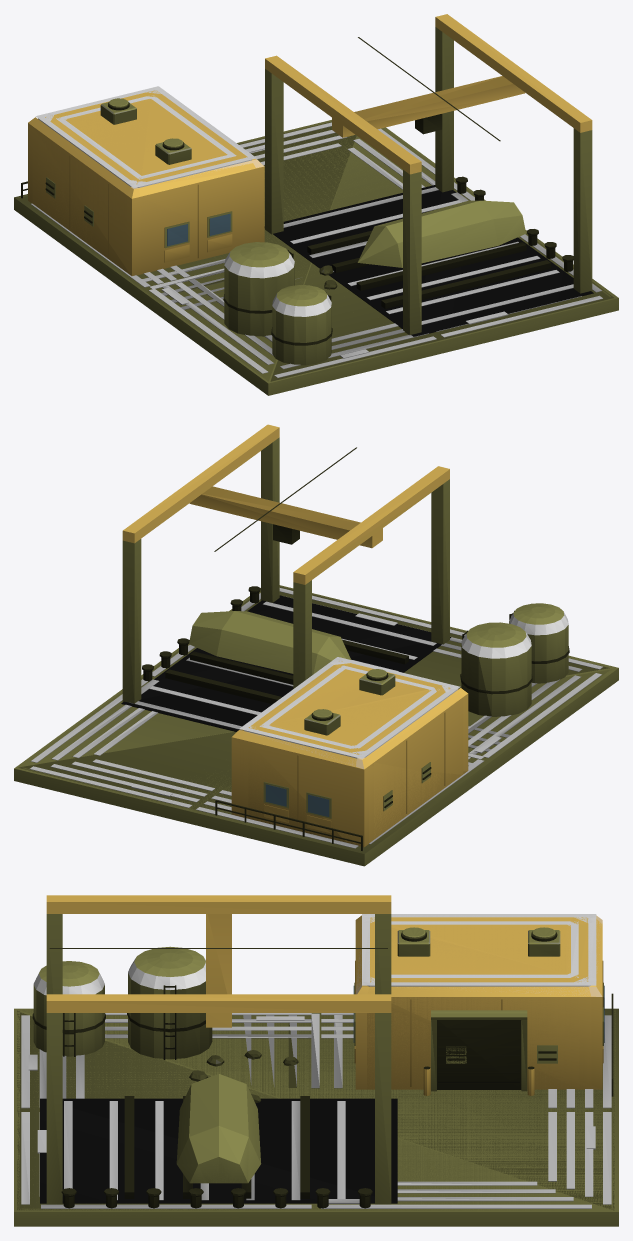
The model's file is meridian_shipyard_damaged.glb.
3 views of the same model, one above another, from view 1: azimuth 30°, elevation 25°; view 2: azimuth 150°, elevation 25°; view 3: azimuth 270°, elevation 25° (orthographic). The views are drawn at different scales.
Parts seen in each view (by area): view 1: body (×3); view 2: body (×3); view 3: body (×3).
Part boxes in pixels (x1,y1,x2,y2): body (×3): (14,14,618,395); body (×3): (14,424,618,866); body (×3): (14,895,618,1226).
Size of the model in its own units: 14.8 by 7.4 by 18.6.
